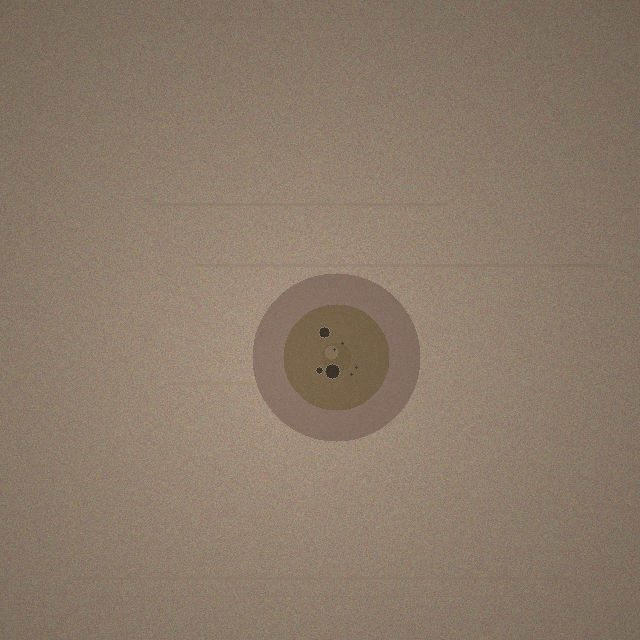shrinkage: (252, 273, 420, 441)
